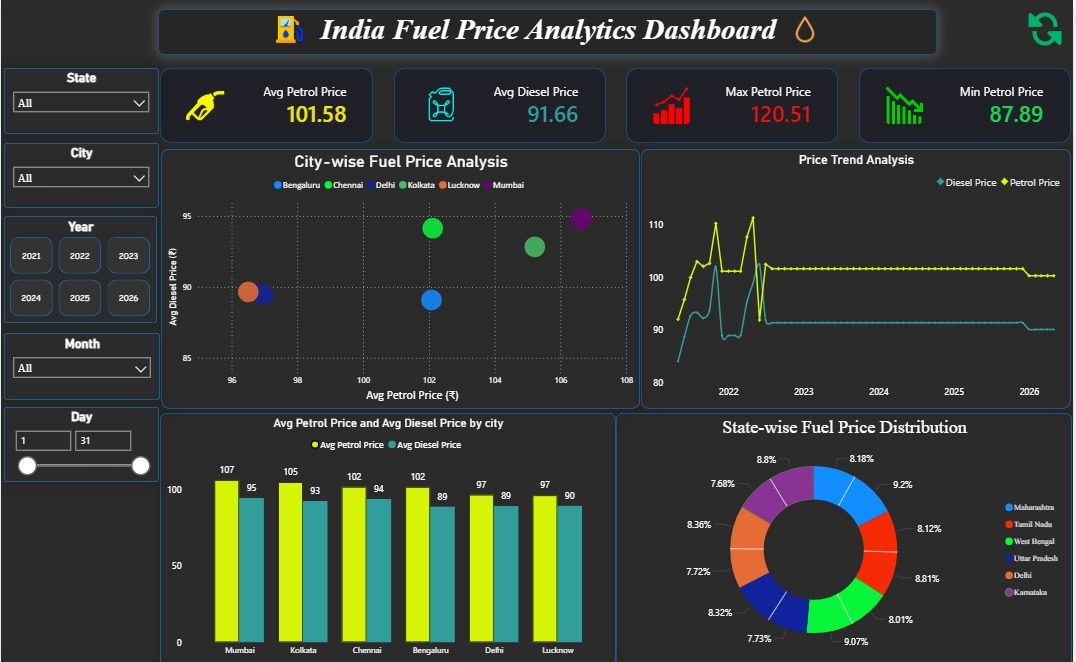

This screenshot's page, from the dashboard's own definition file:
{"tool":"powerbi","page":{"name":"Page 1","canvas":[1430,890],"ordinal":0},"visuals":[{"type":"lineChart","title":"Price Trend Analysis","fields":{"Y":["Avg(india_fuel_prices_daily.diesel_price_inr_per_litre)","Avg(india_fuel_prices_daily.petrol_price_inr_per_litre)"],"Category":["india_fuel_prices_daily.date.Variation.Date Hierarchy.Year","india_fuel_prices_daily.date.Variation.Date Hierarchy.Month"]},"box":[854,200,572,346],"z":0,"group":"g2"},{"type":"donutChart","title":"State-wise Fuel Price Distribution","fields":{"Category":["india_fuel_prices_daily.state"],"Y":["Avg(india_fuel_prices_daily.diesel_price_inr_per_litre)","Avg(india_fuel_prices_daily.petrol_price_inr_per_litre)"]},"box":[820,552,608,338],"z":0},{"type":"scatterChart","title":"City-wise Fuel Price Analysis","fields":{"Y":["Avg(india_fuel_prices_daily.diesel_price_inr_per_litre)"],"X":["Avg(india_fuel_prices_daily.petrol_price_inr_per_litre)"],"Series":["india_fuel_prices_daily.city"],"Category":["india_fuel_prices_daily.state_vat_petrol_pct","india_fuel_prices_daily.state_vat_diesel_pct"]},"box":[214,200,638,346],"z":1000,"group":"g2"},{"type":"clusteredColumnChart","fields":{"Category":["india_fuel_prices_daily.city"],"Y":["india_fuel_prices_daily.Avg Petrol Price","india_fuel_prices_daily.Avg Diesel Price"]},"box":[212,552,608,338],"z":1000},{"type":"group","id":"g1","title":"Group 1","box":[212,92,1214,100],"z":2000},{"type":"group","id":"g2","title":"Group 2","box":[214,200,1212,346],"z":3000},{"type":"slicer","title":"State","fields":{"Values":["india_fuel_prices_daily.state"]},"box":[4,92,206,88],"z":4000},{"type":"slicer","title":"City","fields":{"Values":["india_fuel_prices_daily.city"]},"box":[4,192,206,86],"z":5000},{"type":"advancedSlicerVisual","title":"Year","fields":{"Values":["india_fuel_prices_daily.date.Variation.Date Hierarchy.Year"]},"box":[4,290,204,142],"z":6000},{"type":"textbox","title":"India Fuel Price Analytics Dashboard","box":[210,14,1038,60],"z":7000},{"type":"cardVisual","fields":{"Data":["india_fuel_prices_daily.Avg Petrol Price"]},"box":[212,92.4,284.3,99.6],"z":8000,"group":"g1"},{"type":"slicer","title":"Month","fields":{"Values":["india_fuel_prices_daily.date.Variation.Date Hierarchy.Month"]},"box":[4,446,208,88],"z":8000},{"type":"cardVisual","fields":{"Data":["india_fuel_prices_daily.Avg Diesel Price"]},"box":[524.1,92,282,99.7],"z":9000,"group":"g1"},{"type":"slicer","title":"Day","fields":{"Values":["india_fuel_prices_daily.date.Variation.Date Hierarchy.Day"]},"box":[4,544,206,100],"z":9000},{"type":"image","box":[358,18,52,46],"z":9001},{"type":"image","box":[1360,18,64,44],"z":9002},{"type":"image","box":[896,18,352,44],"z":9003},{"type":"cardVisual","fields":{"Data":["india_fuel_prices_daily.Max Petrol Price"]},"box":[834.1,92,282,99.7],"z":10000,"group":"g1"},{"type":"cardVisual","fields":{"Data":["india_fuel_prices_daily.Min Petrol Price"]},"box":[1144,92,282,99.7],"z":11000,"group":"g1"}]}

Visuals, with their boxes in screenshot pixels (x1, y1, x2, y2), scaled from the page's 1430x890 canvas onto the 1076x662 screenshot:
"Price Trend Analysis" lineChart: {"x1": 643, "y1": 149, "x2": 1073, "y2": 406}
"State-wise Fuel Price Distribution" donutChart: {"x1": 617, "y1": 411, "x2": 1074, "y2": 661}
"City-wise Fuel Price Analysis" scatterChart: {"x1": 161, "y1": 149, "x2": 641, "y2": 406}
clusteredColumnChart - india_fuel_prices_daily.city x india_fuel_prices_daily.Avg Petrol Price: {"x1": 160, "y1": 411, "x2": 617, "y2": 661}
"Group 1" group: {"x1": 160, "y1": 68, "x2": 1073, "y2": 143}
"Group 2" group: {"x1": 161, "y1": 149, "x2": 1073, "y2": 406}
"State" slicer: {"x1": 3, "y1": 68, "x2": 158, "y2": 134}
"City" slicer: {"x1": 3, "y1": 143, "x2": 158, "y2": 207}
"Year" advancedSlicerVisual: {"x1": 3, "y1": 216, "x2": 157, "y2": 321}
"India Fuel Price Analytics Dashboard" textbox: {"x1": 158, "y1": 10, "x2": 939, "y2": 55}
cardVisual - india_fuel_prices_daily.Avg Petrol Price: {"x1": 160, "y1": 69, "x2": 373, "y2": 143}
"Month" slicer: {"x1": 3, "y1": 332, "x2": 160, "y2": 397}
cardVisual - india_fuel_prices_daily.Avg Diesel Price: {"x1": 394, "y1": 68, "x2": 607, "y2": 143}
"Day" slicer: {"x1": 3, "y1": 405, "x2": 158, "y2": 479}
image: {"x1": 269, "y1": 13, "x2": 309, "y2": 48}
image: {"x1": 1023, "y1": 13, "x2": 1071, "y2": 46}
image: {"x1": 674, "y1": 13, "x2": 939, "y2": 46}
cardVisual - india_fuel_prices_daily.Max Petrol Price: {"x1": 628, "y1": 68, "x2": 840, "y2": 143}
cardVisual - india_fuel_prices_daily.Min Petrol Price: {"x1": 861, "y1": 68, "x2": 1073, "y2": 143}
